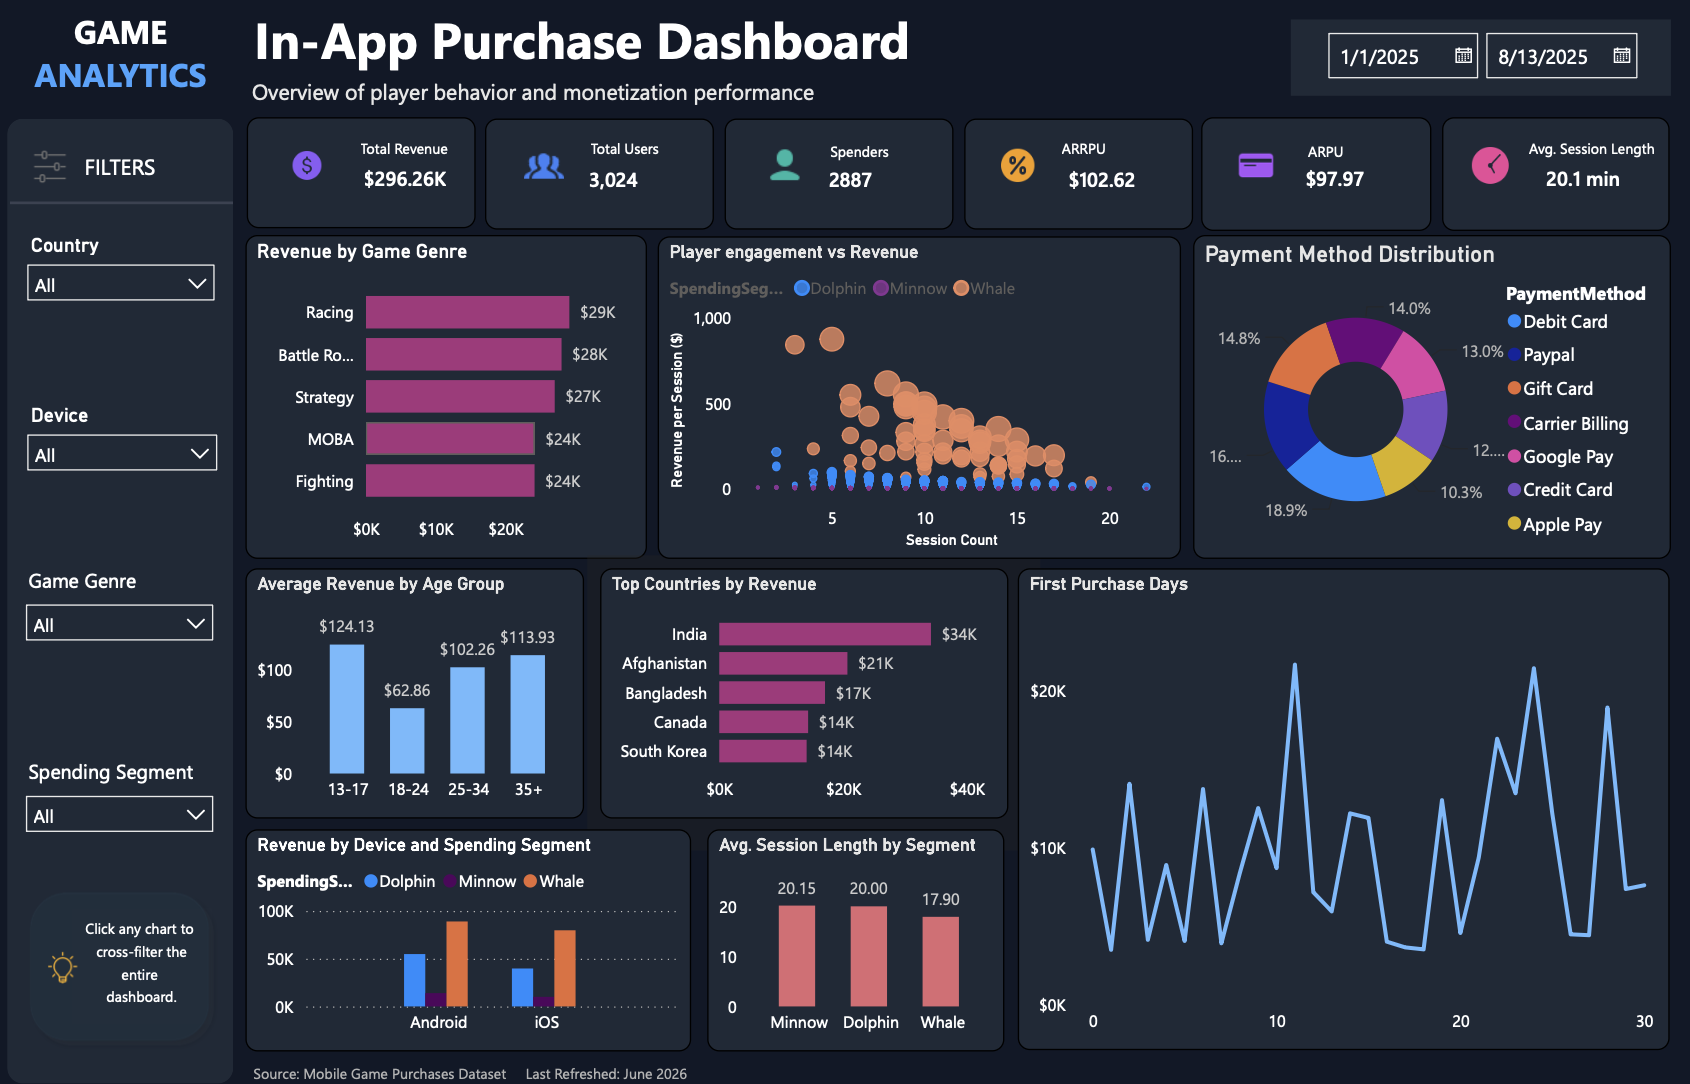

The dashboard page shown, as its layout file describes it:
{"tool":"powerbi","page":{"name":"Page 1","canvas":[1280,820],"ordinal":0},"visuals":[{"type":"shape","box":[6.2,90,168.8,721.2],"z":0},{"type":"textbox","box":[185.7,0,1093.7,61.9],"z":1000},{"type":"textbox","box":[184.1,54,1095.2,60.3],"z":2000},{"type":"cardVisual","fields":{"Data":["game_purchases.Total Revenue"]},"box":[184.7,89.1,171,83.1],"z":3000},{"type":"textbox","box":[264.5,97.2,95.6,33.8],"z":4000},{"type":"cardVisual","fields":{"Data":["game_purchases.Total Users"]},"box":[363.4,89.8,171.1,83],"z":5000},{"type":"cardVisual","fields":{"Data":["game_purchases.Spenders","game_purchases.Spenders"]},"box":[542,89.8,171.1,83.3],"z":6000},{"type":"cardVisual","fields":{"Data":["game_purchases.ARPPU"]},"box":[720.7,89.8,171.1,83.3],"z":7000},{"type":"cardVisual","fields":{"Data":["game_purchases.arpu"]},"box":[898.4,89.4,171.4,84.1],"z":8000},{"type":"textbox","box":[436.6,97.2,95.6,33.8],"z":9000},{"type":"textbox","box":[615.9,98.9,95.2,33.3],"z":10000},{"type":"textbox","box":[789.1,96.7,95.6,33.8],"z":11000},{"type":"textbox","box":[973,98.9,96.8,33.3],"z":12000},{"type":"cardVisual","fields":{"Data":["game_purchases.Avg Session Length"]},"box":[1077.8,89.4,169.8,84.1],"z":13000},{"type":"textbox","box":[1138.1,97.4,109.5,33.3],"z":14000},{"type":"barChart","title":"Revenue by Game Genre","fields":{"Category":["game_purchases.GameGenre"],"Y":["Sum(game_purchases.InAppPurchaseAmount)"]},"box":[184.1,177.4,300,241.3],"z":15000},{"type":"barChart","title":"Top Countries by Revenue","fields":{"Category":["game_purchases.Country"],"Y":["Sum(game_purchases.InAppPurchaseAmount)"]},"box":[449.2,425.8,304.8,187.3],"z":16000},{"type":"scatterChart","title":"Player engagement vs Revenue","fields":{"X":["Sum(game_purchases.SessionCount)"],"Y":["game_purchases.Revenue per Session"],"Series":["game_purchases.SpendingSegment"],"Size":["Sum(game_purchases.InAppPurchaseAmount)"],"Category":["game_purchases.UserID"]},"box":[492.2,177.9,390.9,241.6],"z":17000},{"type":"donutChart","title":"Payment Method Distribution","fields":{"Category":["game_purchases.PaymentMethod"],"Y":["Sum(game_purchases.InAppPurchaseAmount)"]},"box":[892.1,177.4,357.1,241.3],"z":18000},{"type":"columnChart","title":"Average Revenue by Age Group","fields":{"Category":["game_purchases.Age Group"],"Y":["Avg(game_purchases.InAppPurchaseAmount)"]},"box":[184.1,425.8,252.4,187.3],"z":19000},{"type":"columnChart","title":"Avg. Session Length by Segment","fields":{"Category":["game_purchases.SpendingSegment"],"Y":["Avg(game_purchases.AverageSessionLength)"]},"box":[528.6,620.6,222.2,166.7],"z":20000},{"type":"clusteredColumnChart","title":"Revenue by Device and Spending Segment","fields":{"Y":["game_purchases.Total Revenue"],"Series":["game_purchases.SpendingSegment"],"Category":["game_purchases.Device"]},"box":[184.1,620.6,333.3,166.7],"z":21000},{"type":"slicer","fields":{"Values":["game_purchases.LastPurchaseDate"]},"box":[965,16.2,283.8,56.2],"z":22000},{"type":"textbox","box":[6.3,3.2,169.8,85.7],"z":23000},{"type":"textbox","box":[56.2,110,68.8,33.8],"z":24000},{"type":"slicer","fields":{"Values":["game_purchases.Country"]},"box":[11.1,171.4,160.3,71.4],"z":25000},{"type":"shape","box":[7.5,127.5,167.5,50],"z":26000},{"type":"slicer","fields":{"Values":["game_purchases.Device"]},"box":[11.1,298.4,161.9,71.4],"z":27000},{"type":"slicer","fields":{"Values":["game_purchases.GameGenre"]},"box":[9.5,442.9,160.3,71.4],"z":28000},{"type":"slicer","fields":{"Values":["game_purchases.SpendingSegment"]},"box":[9.5,585.7,160.3,71.4],"z":29000},{"type":"textbox","box":[17.5,419,101.6,30.2],"z":30000},{"type":"textbox","box":[17.5,561.9,149.2,31.7],"z":31000},{"type":"lineChart","title":"First Purchase Days","fields":{"Category":["game_purchases.FirstPurchaseDaysAfterInstall"],"Y":["Sum(game_purchases.InAppPurchaseAmount)"]},"box":[761,426,487,359.7],"z":32000},{"type":"textbox","box":[185,788,518,32],"z":33000},{"type":"shape","box":[14.4,658.9,151.1,128.9],"z":34000},{"type":"textbox","box":[54,680,105,87],"z":35000},{"type":"image","box":[215,110,30,30],"z":36000},{"type":"image","box":[572,110,30,30],"z":37000},{"type":"image","box":[392,110,30,30],"z":38000},{"type":"image","box":[746,110,30,30],"z":39000},{"type":"image","box":[925,110,28,30],"z":40000},{"type":"image","box":[1099,110,30,30],"z":41000},{"type":"image","box":[35,694,25,60],"z":42000},{"type":"image","box":[0,112.9,75.7,25.7],"z":43000}]}

Visuals, with their boxes in screenshot pixels (x1, y1, x2, y2), scaled from the page's 1280x820 canvas onto the 1690x1084 screenshot:
shape: (8, 119, 231, 1072)
textbox: (245, 0, 1689, 82)
textbox: (243, 71, 1689, 151)
cardVisual - game_purchases.Total Revenue: (244, 118, 470, 228)
textbox: (349, 128, 475, 173)
cardVisual - game_purchases.Total Users: (480, 119, 706, 228)
cardVisual - game_purchases.Spenders x game_purchases.Spenders: (716, 119, 942, 229)
cardVisual - game_purchases.ARPPU: (952, 119, 1177, 229)
cardVisual - game_purchases.arpu: (1186, 118, 1412, 229)
textbox: (576, 128, 703, 173)
textbox: (813, 131, 939, 175)
textbox: (1042, 128, 1168, 173)
textbox: (1285, 131, 1412, 175)
cardVisual - game_purchases.Avg Session Length: (1423, 118, 1647, 229)
textbox: (1503, 129, 1647, 173)
"Revenue by Game Genre" barChart: (243, 235, 639, 554)
"Top Countries by Revenue" barChart: (593, 563, 996, 810)
"Player engagement vs Revenue" scatterChart: (650, 235, 1166, 555)
"Payment Method Distribution" donutChart: (1178, 235, 1649, 554)
"Average Revenue by Age Group" columnChart: (243, 563, 576, 810)
"Avg. Session Length by Segment" columnChart: (698, 820, 991, 1041)
"Revenue by Device and Spending Segment" clusteredColumnChart: (243, 820, 683, 1041)
slicer - game_purchases.LastPurchaseDate: (1274, 21, 1649, 96)
textbox: (8, 4, 233, 118)
textbox: (74, 145, 165, 190)
slicer - game_purchases.Country: (15, 227, 226, 321)
shape: (10, 169, 231, 235)
slicer - game_purchases.Device: (15, 394, 228, 489)
slicer - game_purchases.GameGenre: (13, 585, 224, 680)
slicer - game_purchases.SpendingSegment: (13, 774, 224, 869)
textbox: (23, 554, 157, 594)
textbox: (23, 743, 220, 785)
"First Purchase Days" lineChart: (1005, 563, 1648, 1039)
textbox: (244, 1042, 928, 1083)
shape: (19, 871, 219, 1041)
textbox: (71, 899, 210, 1014)
image: (284, 145, 323, 185)
image: (755, 145, 795, 185)
image: (518, 145, 557, 185)
image: (985, 145, 1025, 185)
image: (1221, 145, 1258, 185)
image: (1451, 145, 1491, 185)
image: (46, 917, 79, 997)
image: (0, 149, 100, 183)
